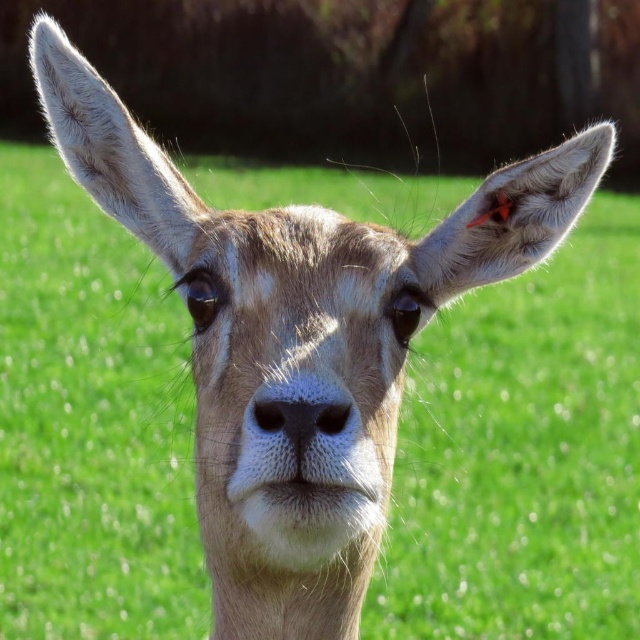Deer: (32, 10, 618, 640)
